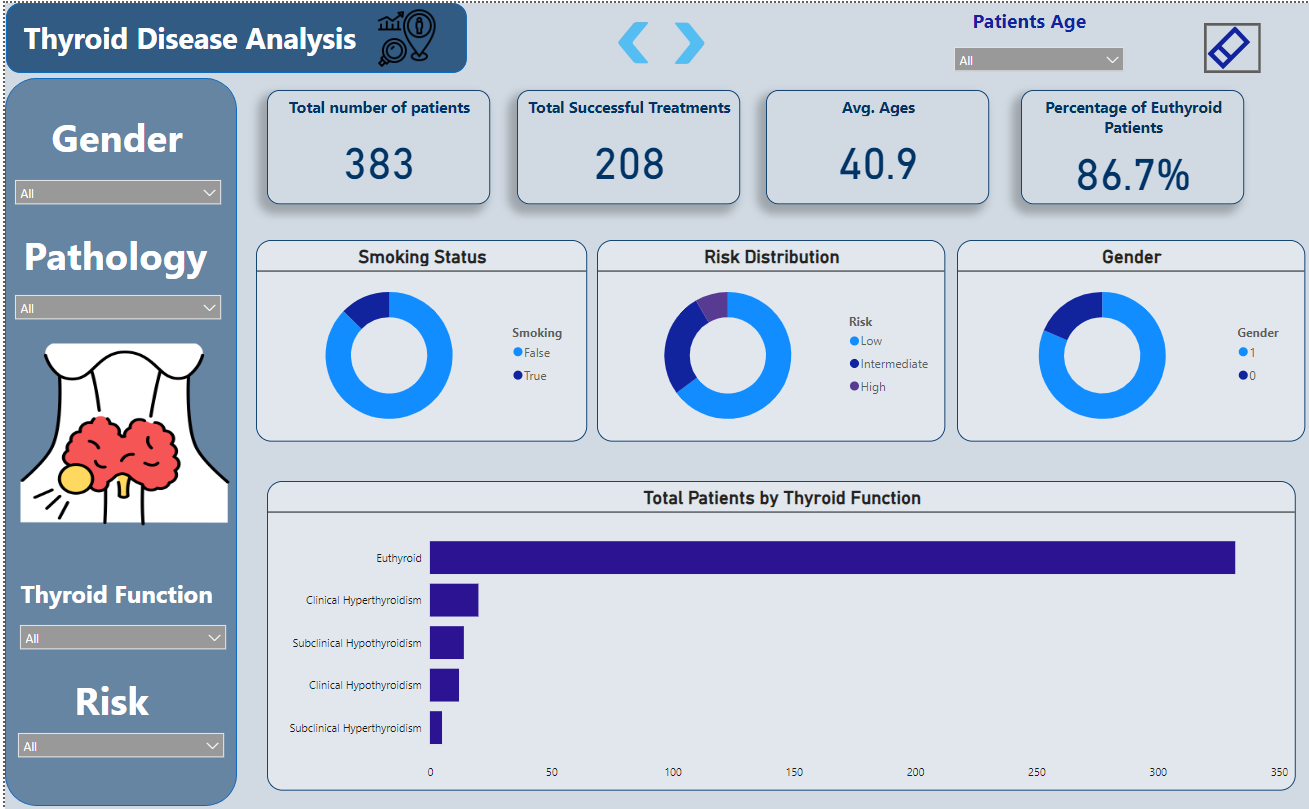

What the dashboard file says about the page in this screenshot:
{"tool":"powerbi","page":{"name":"Patient Demographics and Health Behavior","canvas":[1450,900],"ordinal":1},"visuals":[{"type":"shape","box":[1.1,0,512.2,77.8],"z":0},{"type":"image","box":[365.6,0,161.1,77.8],"z":1000},{"type":"shape","box":[0,83.3,257.8,808.9],"z":2000},{"type":"image","box":[12.2,373.3,242.2,212.2],"z":3000},{"type":"card","title":"Total number of patients","fields":{"Values":["Thyroid_Disease.TotalPatients"]},"box":[291.1,96.7,247.8,126.7],"z":4000},{"type":"card","title":"Total Successful Treatments","fields":{"Values":["Thyroid_Disease.SuccessfulTreatments"]},"box":[568.9,96.7,247.8,126.7],"z":5000},{"type":"card","title":"Avg. Ages","fields":{"Values":["Avg(Thyroid_Disease.Age)"]},"box":[845.6,96.7,247.8,126.7],"z":6000},{"type":"card","title":"Percentage of Euthyroid Patients","fields":{"Values":["Thyroid_Disease.PercentageEuthyroid"]},"box":[1128.9,96.7,247.8,126.7],"z":7000},{"type":"textbox","box":[15.6,11.1,400,55.6],"z":8000},{"type":"image","box":[670,11.1,55.6,66.7],"z":9000},{"type":"image","box":[716.7,16.7,88.9,55.6],"z":10000},{"type":"slicer","fields":{"Values":["Thyroid_Disease.Gender"]},"box":[1.1,186.7,248.9,58.9],"z":16000},{"type":"textbox","box":[46.7,114.4,168.9,72.2],"z":17000},{"type":"slicer","fields":{"Values":["Thyroid_Disease.Types of Thyroid Cancer (Pathology)"]},"box":[1.1,314.4,248.9,58.9],"z":18000},{"type":"textbox","box":[15.6,245.6,234.4,76.7],"z":19000},{"type":"slicer","fields":{"Values":["Thyroid_Disease.Thyroid Function"]},"box":[6.7,681.1,248.9,58.9],"z":20000},{"type":"textbox","box":[12.2,632.2,274.4,58.9],"z":21000},{"type":"slicer","fields":{"Values":["Thyroid_Disease.Risk"]},"box":[4.4,801.1,248.9,58.9],"z":22000},{"type":"textbox","box":[72.2,740,105.6,77.8],"z":23000},{"type":"actionButton","box":[1332.2,22.2,63.3,55.6],"z":24000},{"type":"slicer","fields":{"Values":["Thyroid_Disease.Age"]},"box":[1044.4,38.9,208.9,66.7],"z":25000},{"type":"textbox","box":[1070,0,157.8,51.1],"z":26000},{"type":"donutChart","title":"Smoking Status","fields":{"Category":["Thyroid_Disease.Smoking"],"Y":["Thyroid_Disease.TotalPatients"]},"box":[278.9,263.3,367.8,224.4],"z":26001},{"type":"donutChart","title":"Gender","fields":{"Category":["Thyroid_Disease.Gender"],"Y":["Thyroid_Disease.TotalPatients"]},"box":[1057.8,263.3,386.7,224.4],"z":26002},{"type":"donutChart","title":"Risk Distribution","fields":{"Y":["Thyroid_Disease.TotalPatients"],"Category":["Thyroid_Disease.Risk"]},"box":[657.8,263.3,386.7,224.4],"z":26003},{"type":"clusteredBarChart","title":"Total Patients by Thyroid Function","fields":{"Category":["Thyroid_Disease.Thyroid Function"],"Y":["Thyroid_Disease.TotalPatients"]},"box":[291.1,531.1,1143.3,344.4],"z":26004}]}

Visuals, with their boxes in screenshot pixels (x1, y1, x2, y2), scaled from the page's 1450x900 canvas onto the 1309x809 screenshot:
shape: l=1, t=0, r=463, b=70
image: l=330, t=0, r=475, b=70
shape: l=0, t=75, r=233, b=802
image: l=11, t=336, r=230, b=526
"Total number of patients" card: l=263, t=87, r=486, b=201
"Total Successful Treatments" card: l=514, t=87, r=737, b=201
"Avg. Ages" card: l=763, t=87, r=987, b=201
"Percentage of Euthyroid Patients" card: l=1019, t=87, r=1243, b=201
textbox: l=14, t=10, r=375, b=60
image: l=605, t=10, r=655, b=70
image: l=647, t=15, r=727, b=65
slicer - Thyroid_Disease.Gender: l=1, t=168, r=226, b=221
textbox: l=42, t=103, r=195, b=168
slicer - Thyroid_Disease.Types of Thyroid Cancer (Pathology): l=1, t=283, r=226, b=336
textbox: l=14, t=221, r=226, b=290
slicer - Thyroid_Disease.Thyroid Function: l=6, t=612, r=231, b=665
textbox: l=11, t=568, r=259, b=621
slicer - Thyroid_Disease.Risk: l=4, t=720, r=229, b=773
textbox: l=65, t=665, r=161, b=735
actionButton: l=1203, t=20, r=1260, b=70
slicer - Thyroid_Disease.Age: l=943, t=35, r=1131, b=95
textbox: l=966, t=0, r=1108, b=46
"Smoking Status" donutChart: l=252, t=237, r=584, b=438
"Gender" donutChart: l=955, t=237, r=1304, b=438
"Risk Distribution" donutChart: l=594, t=237, r=943, b=438
"Total Patients by Thyroid Function" clusteredBarChart: l=263, t=477, r=1295, b=787
